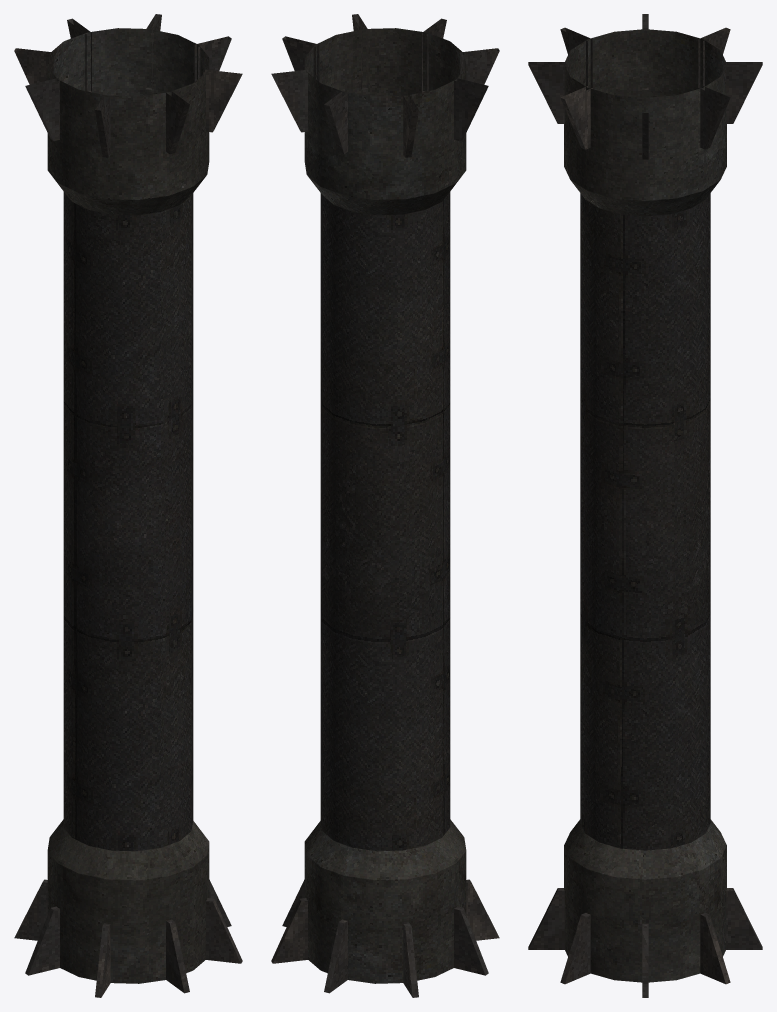
The model's file is pillar_11.glb.
3 renders of one model, left to right at view 1: azimuth 30°, elevation 25°; view 2: azimuth 150°, elevation 25°; view 3: azimuth 270°, elevation 25°, orthographic.
Parts seen in each view (by area): view 1: pillar_11; view 2: pillar_11; view 3: pillar_11.
Part boxes in pixels (<box>): pillar_11: <box>14,14,242,997</box>; pillar_11: <box>271,14,499,997</box>; pillar_11: <box>528,14,762,997</box>.
Bounding box in the file's own units: 0.72 × 3 × 0.72.
3 materials, 3 textured.
